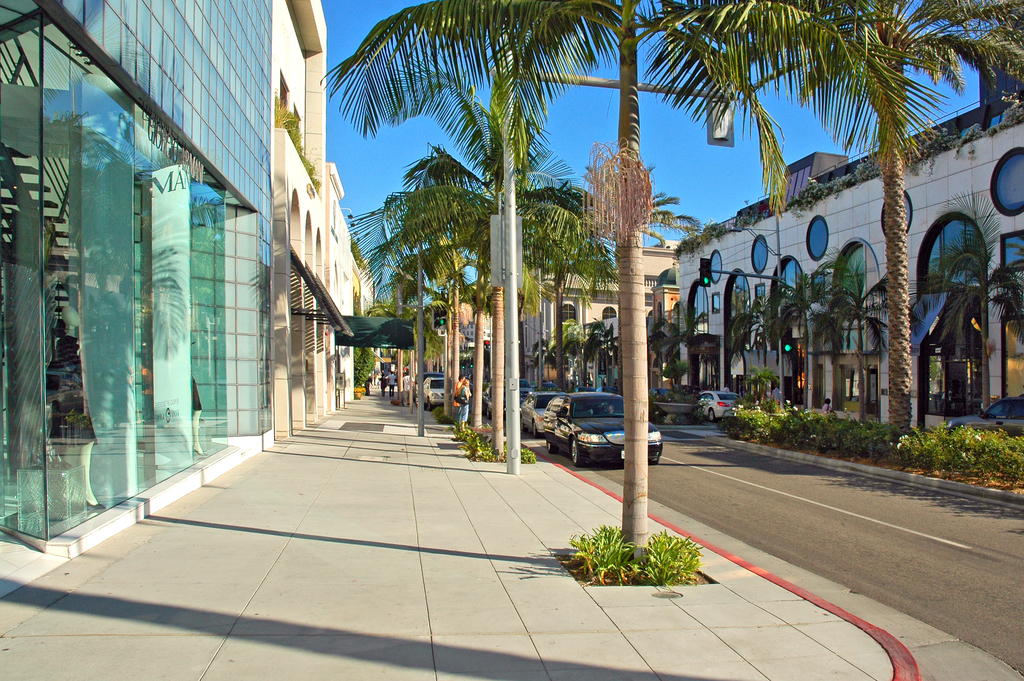Car: (547, 391, 663, 474), (951, 395, 1023, 434), (522, 385, 570, 443), (692, 391, 744, 421), (423, 374, 445, 411)
